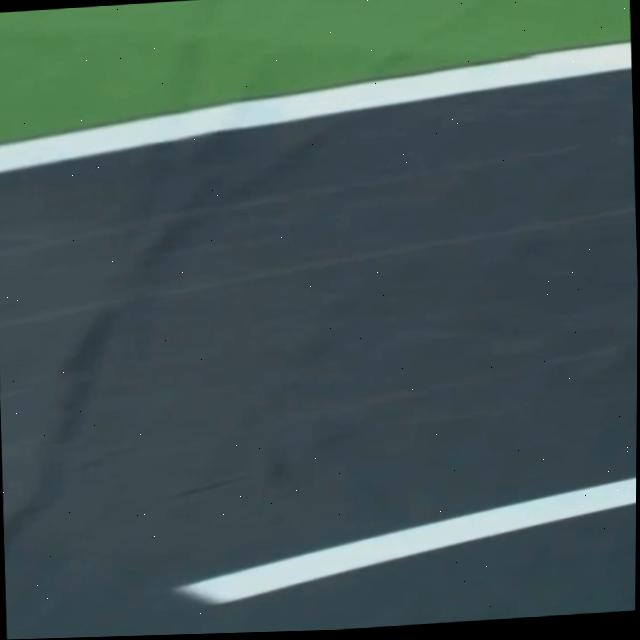center: (176, 477, 636, 602)
right: (0, 41, 631, 172)
